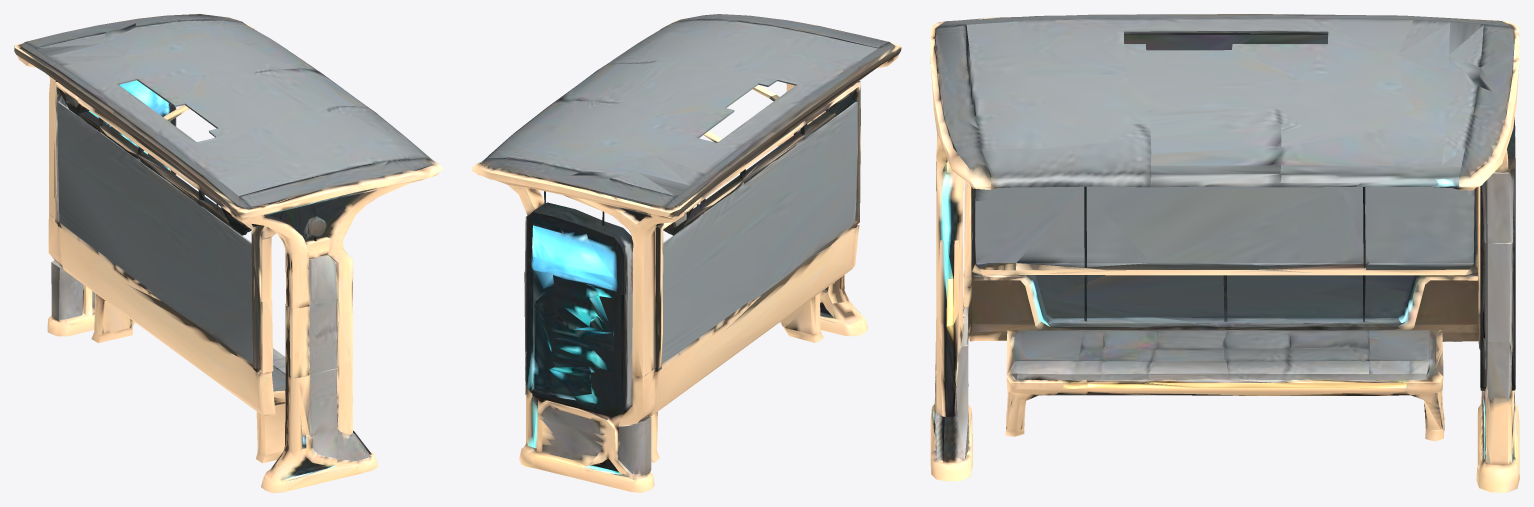
Rendered from bus_shelter.glb.
3 renders of one model, left to right at view 1: azimuth 30°, elevation 25°; view 2: azimuth 150°, elevation 25°; view 3: azimuth 270°, elevation 25°, orthographic. The views are drawn at different scales.
Visible parts, largest first — view 1: bus_shelter; view 2: bus_shelter; view 3: bus_shelter.
Boxes of the visible parts, x1,y1,x2,y2 form: bus_shelter: [14, 14, 443, 492]; bus_shelter: [472, 14, 901, 492]; bus_shelter: [930, 14, 1519, 492].
Size of the model in its own units: 3.34 by 4.29 by 5.98.
1 material, 1 textured.
